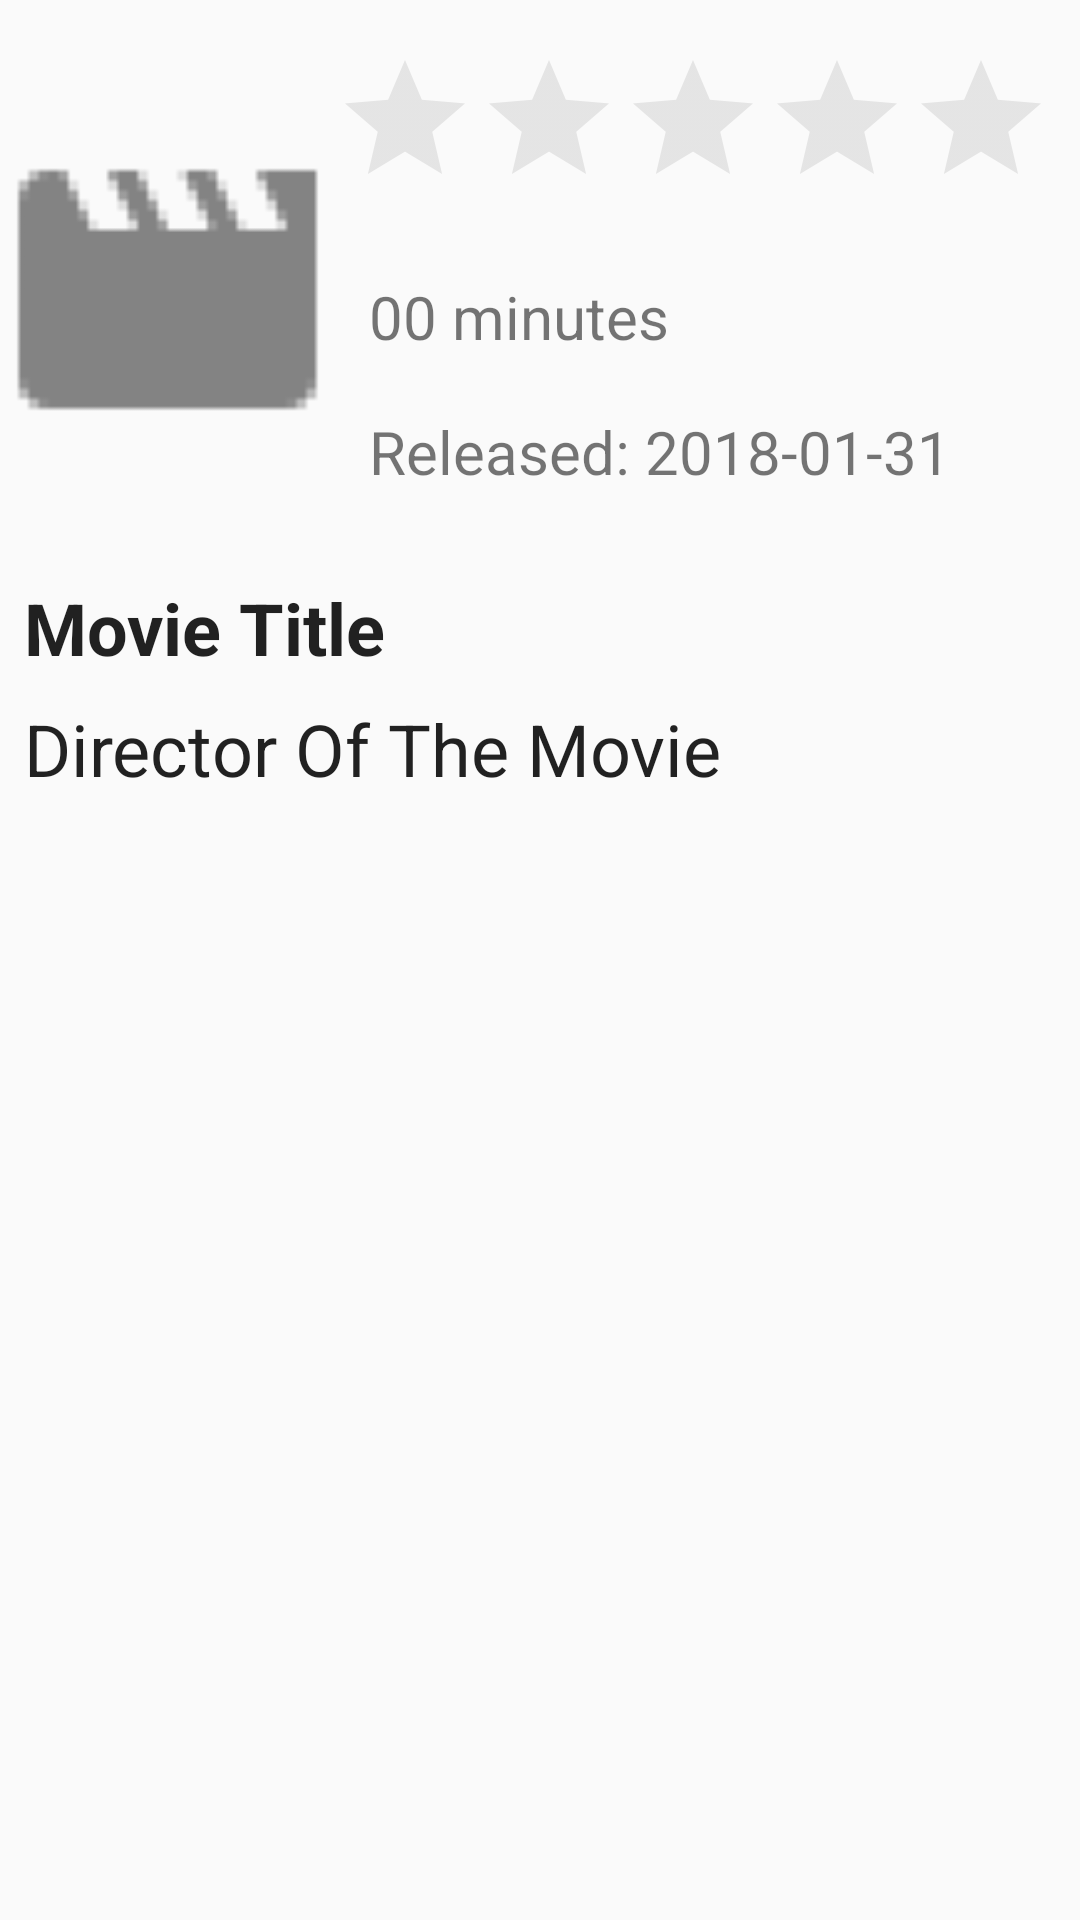

Icons on this 1080*1920 Android screen, each with its box as (x1, y1, x2, y2):
movie thumbnail: (17, 169, 318, 410)
